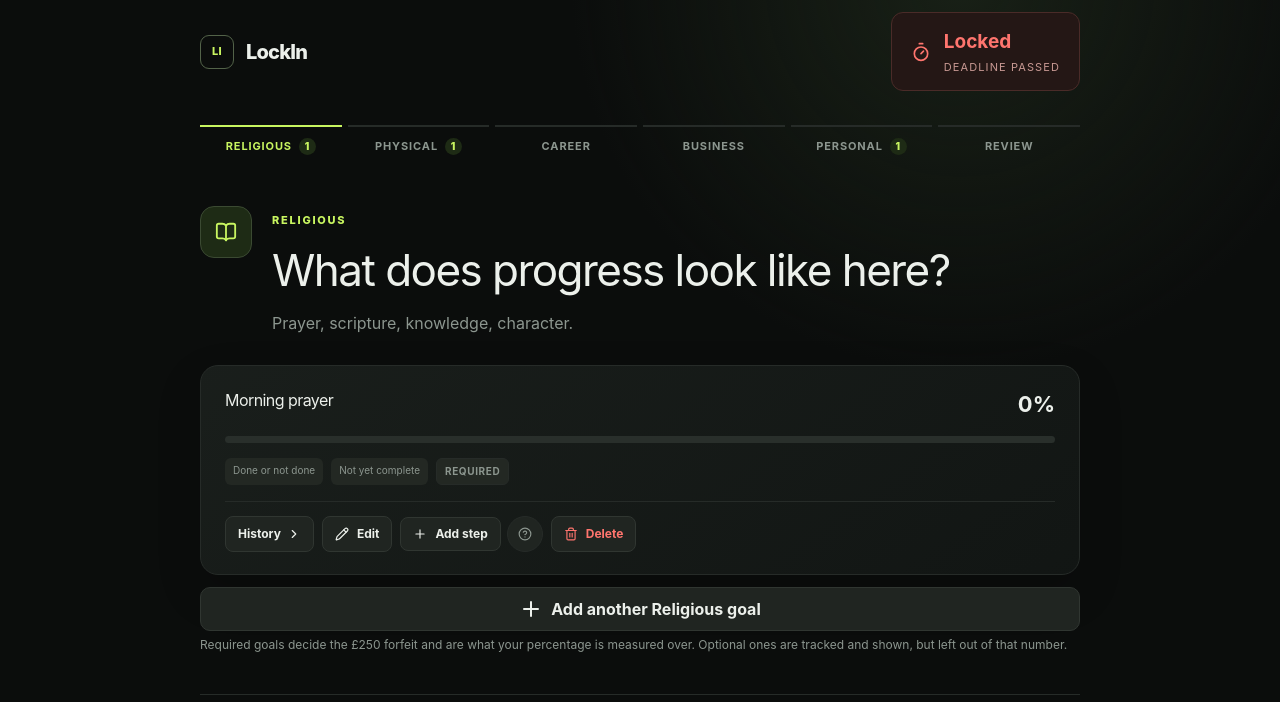
Test: goal wizard › summarises the commitment on the review step
Click the button "Review": [1009, 145] box top-left (938, 125), bottom-right (1080, 166)
(page scrolled)
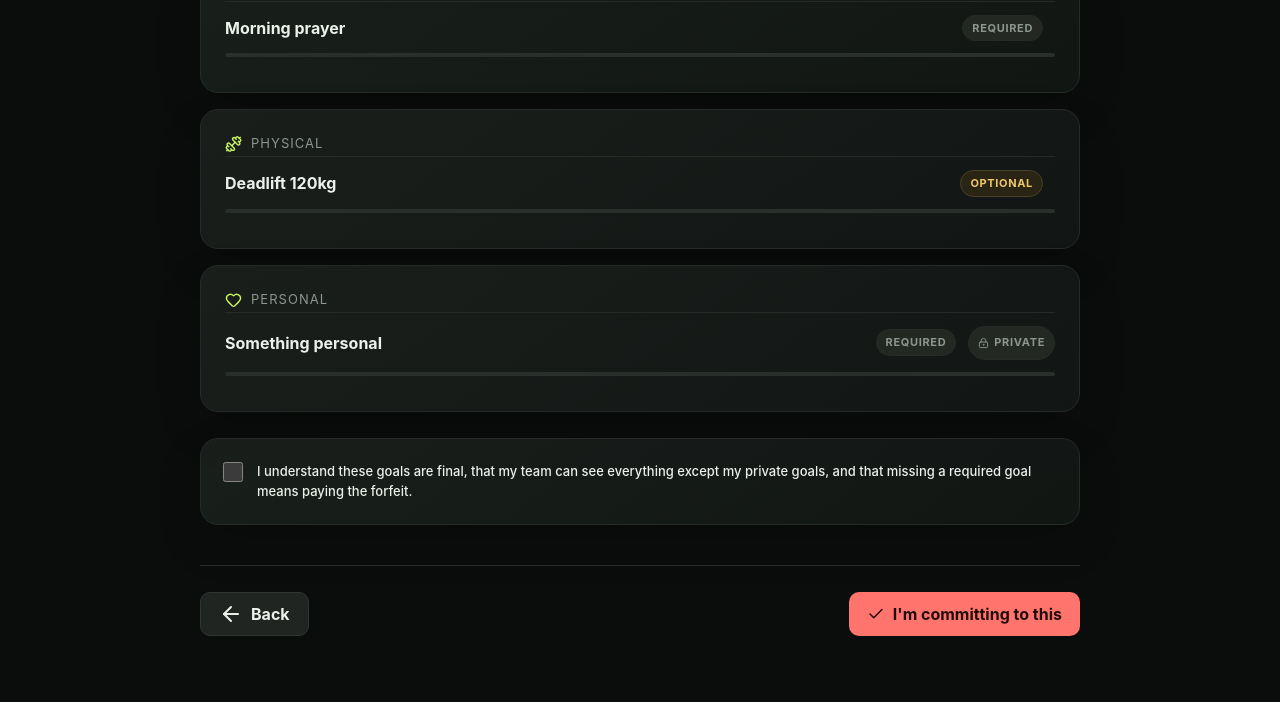
Expected: the text "Morning prayer" is shown, top-left (225, 18), bottom-right (345, 38)
Expected: the text "Private" is shown, top-left (968, 326), bottom-right (1055, 360)
